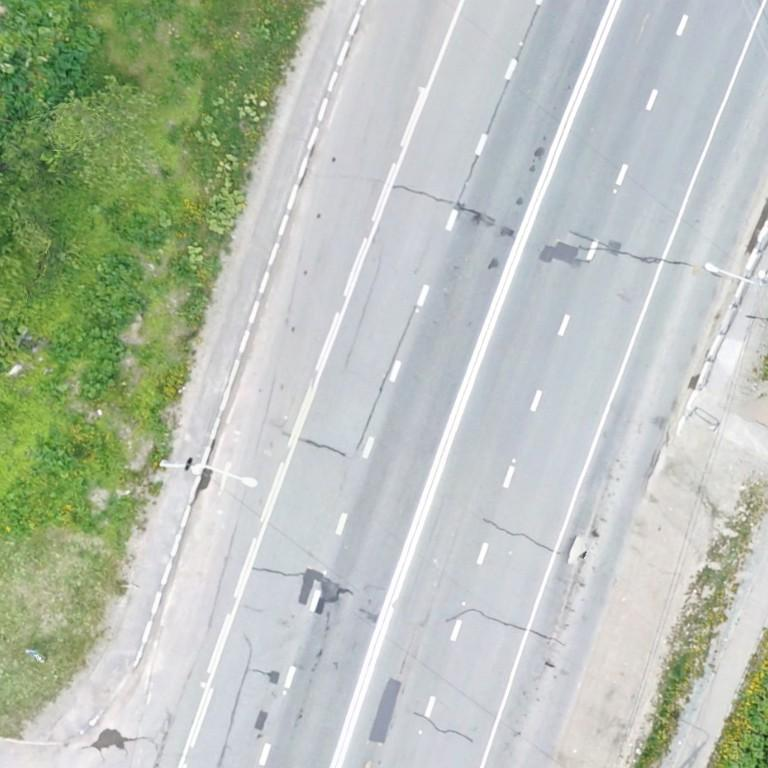hogweed: (54, 255, 143, 398), (48, 27, 98, 95), (737, 699, 767, 767)
